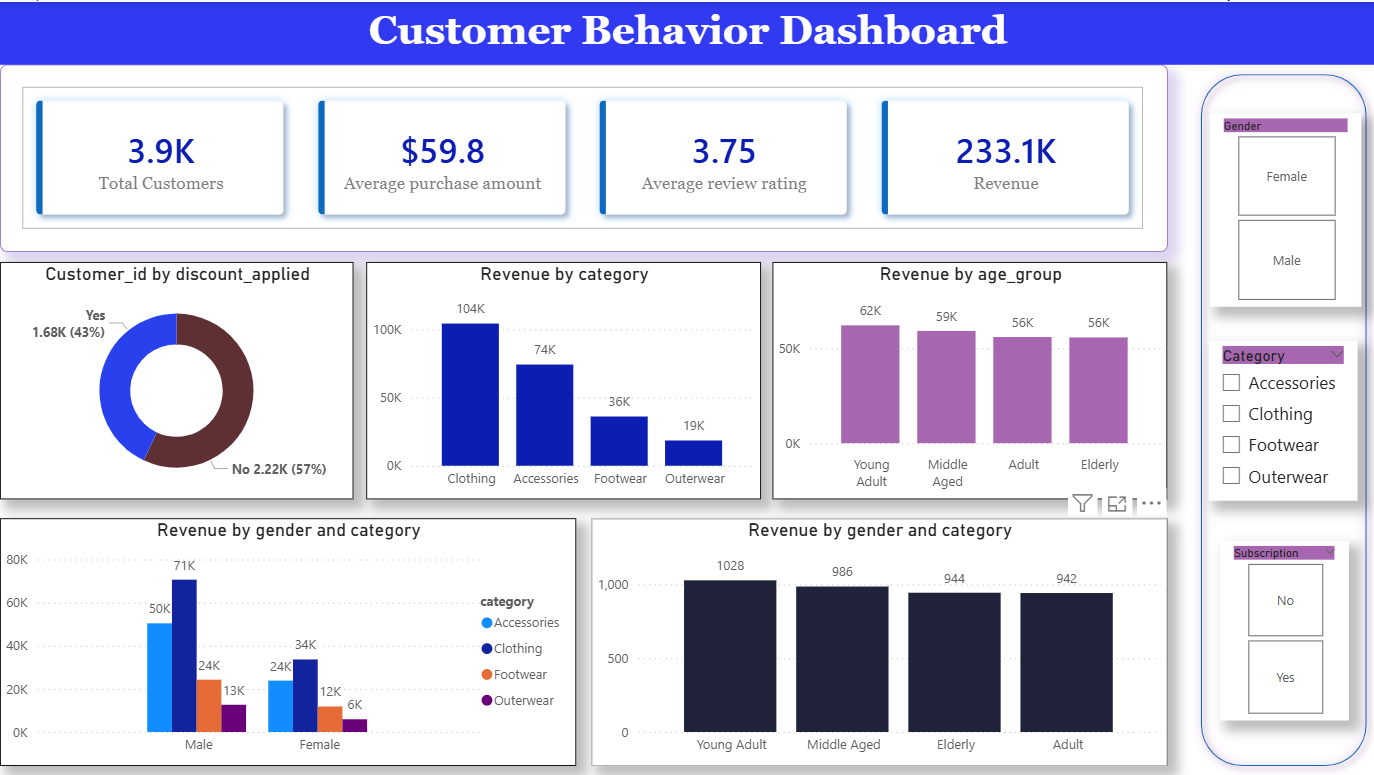

The page's visual inventory and layout, read from the dashboard file:
{"tool":"powerbi","page":{"name":"Page 1","canvas":[1280,720],"ordinal":0},"visuals":[{"type":"cardVisual","fields":{"Data":["customer_behavior_db customer_behavior.Total Customers","customer_behavior_db customer_behavior.Average purchase amount","customer_behavior_db customer_behavior.Average review rating"]},"box":[0,58.1,1086,174.4],"z":0},{"type":"textbox","box":[0,0,1280.2,58.1],"z":1},{"type":"donutChart","title":"Customer_id by discount_applied","fields":{"Category":["customer_behavior_db customer_behavior.discount_applied"],"Y":["CountNonNull(customer_behavior_db customer_behavior.customer_id)"]},"box":[0,241.9,329.1,220.9],"z":2},{"type":"clusteredColumnChart","title":"Revenue by category","fields":{"Category":["customer_behavior_db customer_behavior.category"],"Y":["Sum(customer_behavior_db customer_behavior.purchase_amount)"]},"box":[340.7,241.9,367.4,220.9],"z":3},{"type":"clusteredColumnChart","title":"Revenue by gender and category","fields":{"Category":["customer_behavior_db customer_behavior.gender"],"Y":["Sum(customer_behavior_db customer_behavior.purchase_amount)"],"Series":["customer_behavior_db customer_behavior.category"]},"box":[0,480.2,536,230.2],"z":4},{"type":"clusteredColumnChart","title":"Revenue by age_group","fields":{"Category":["customer_behavior_db customer_behavior.age_group"],"Y":["Sum(customer_behavior_db customer_behavior.purchase_amount)"]},"box":[718.6,241.9,367.4,220.9],"z":5},{"type":"shape","box":[1108.1,58.1,172.1,661.6],"z":6},{"type":"slicer","fields":{"Values":["customer_behavior_db customer_behavior.gender"]},"box":[1125.6,103.5,140.7,180.2],"z":7},{"type":"slicer","fields":{"Values":["customer_behavior_db customer_behavior.category"]},"box":[1124.4,315.1,138.4,148.8],"z":8},{"type":"slicer","fields":{"Values":["customer_behavior_db customer_behavior.subscription_status"]},"box":[1134.9,501.2,119.8,167.4],"z":9},{"type":"clusteredColumnChart","title":"Revenue by gender and category","fields":{"Category":["customer_behavior_db customer_behavior.age_group"],"Y":["CountNonNull(customer_behavior_db customer_behavior.customer_id)"]},"box":[550,480.2,536,230.2],"z":10}]}

Visuals, with their boxes in screenshot pixels (x1, y1, x2, y2), scaled from the page's 1280x720 canvas onto the 1374x775 screenshot:
cardVisual - customer_behavior_db customer_behavior.Total Customers x customer_behavior_db customer_behavior.Average purchase amount: 0:63:1166:250
textbox: 0:0:1373:63
"Customer_id by discount_applied" donutChart: 0:260:353:498
"Revenue by category" clusteredColumnChart: 366:260:760:498
"Revenue by gender and category" clusteredColumnChart: 0:517:575:765
"Revenue by age_group" clusteredColumnChart: 771:260:1166:498
shape: 1189:63:1373:774
slicer - customer_behavior_db customer_behavior.gender: 1208:111:1359:305
slicer - customer_behavior_db customer_behavior.category: 1207:339:1356:499
slicer - customer_behavior_db customer_behavior.subscription_status: 1218:539:1347:720
"Revenue by gender and category" clusteredColumnChart: 590:517:1166:765
